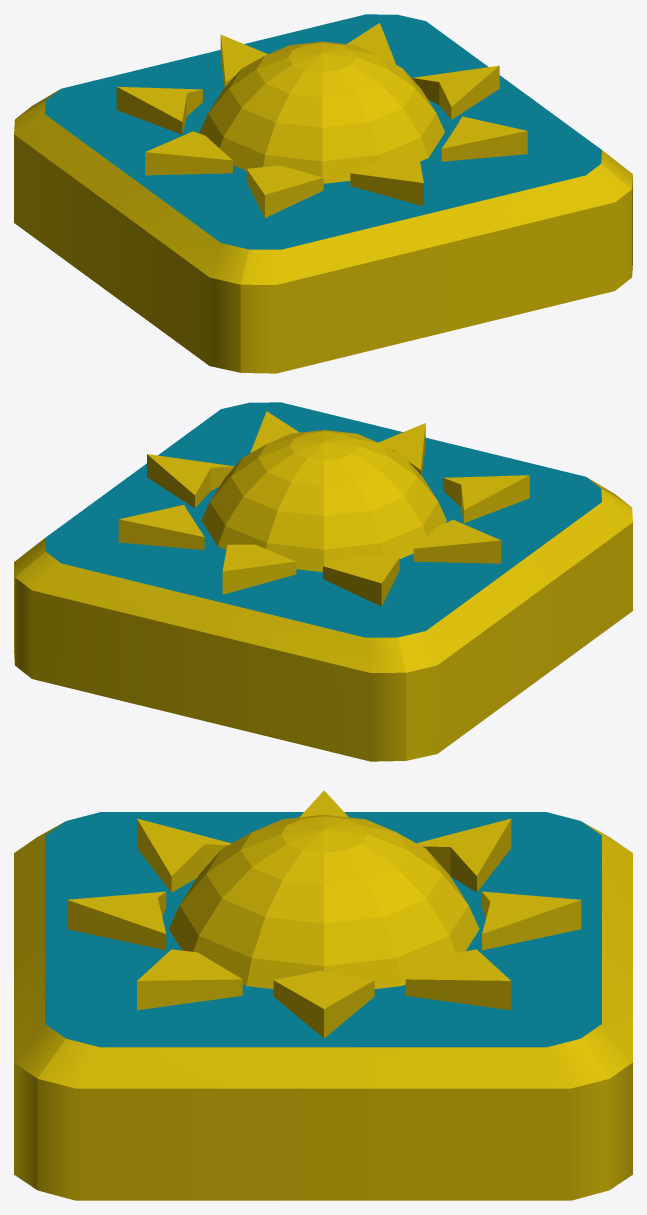
Rendered from Tile_Sun.fbx.
The picture shows the model from 3 angles, top to bottom: view 1: azimuth 30°, elevation 25°; view 2: azimuth 150°, elevation 25°; view 3: azimuth 270°, elevation 25°; orthographic projection. The views are drawn at different scales.
Parts seen in each view (by area): view 1: sunTile, SunIcon; view 2: sunTile, SunIcon; view 3: sunTile, SunIcon.
Boxes of the visible parts, left/top/right/bottom form: sunTile: left=14, top=14, right=632, bottom=373; SunIcon: left=116, top=23, right=527, bottom=217; sunTile: left=14, top=402, right=632, bottom=761; SunIcon: left=118, top=411, right=529, bottom=606; sunTile: left=14, top=812, right=632, bottom=1200; SunIcon: left=67, top=790, right=581, bottom=1038.
Size of the model in its own units: 0.3937 by 0.1683 by 0.3937.
